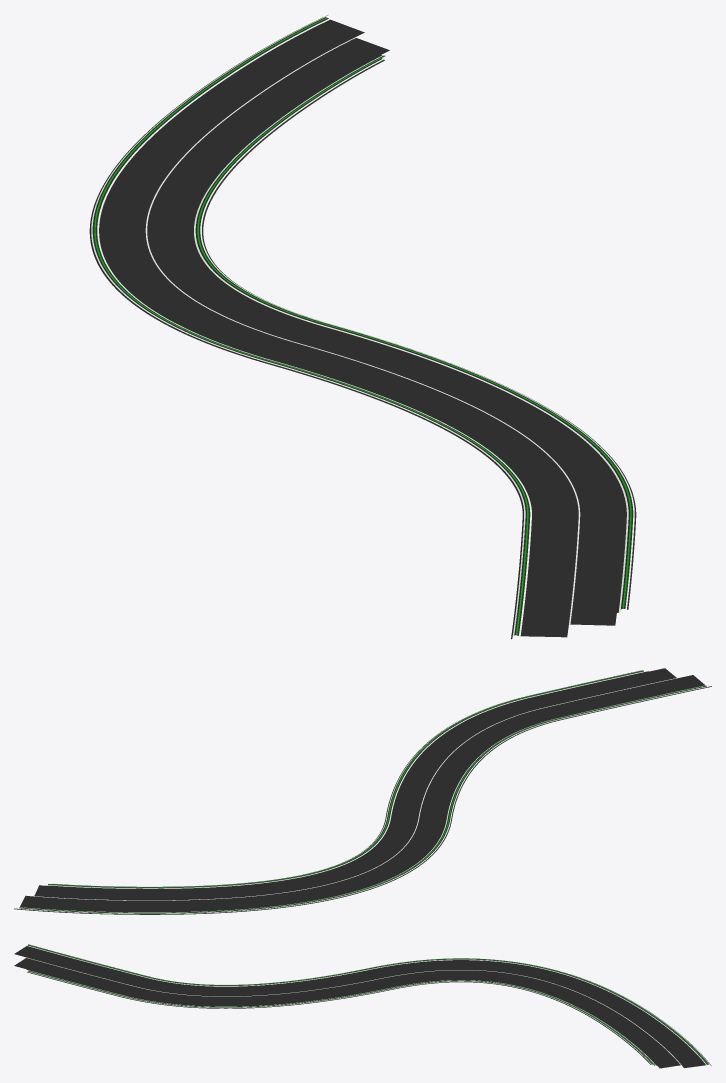
The model's file is Spa.Short.05.glb.
3 views of the same model, one above another, from view 1: azimuth 30°, elevation 25°; view 2: azimuth 150°, elevation 25°; view 3: azimuth 270°, elevation 25° (orthographic). The views are drawn at different scales.
Parts seen in each view (by area): view 1: Track.005; view 2: Track.005; view 3: Track.005.
Part boxes in pixels (x1,y1,x2,y2): Track.005: (89, 15, 636, 639); Track.005: (14, 668, 711, 914); Track.005: (14, 944, 711, 1068).
Bounding box in the file's own units: 78.18 × 0.1549 × 184.
